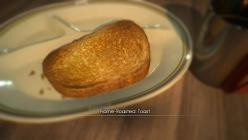slice of bread: (53, 35, 152, 86)
